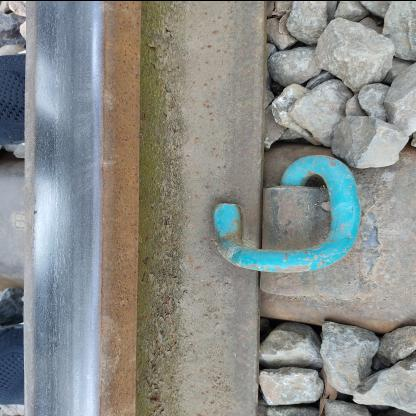Non Defective 1: (12, 99, 214, 320)
